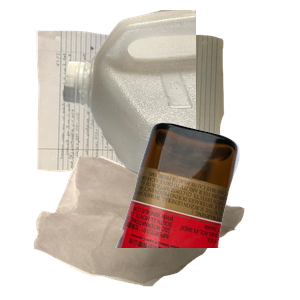glass: (113, 120, 300, 300)
paper: (32, 28, 249, 196)
plastic: (60, 10, 300, 190)
trash: (31, 149, 268, 300)
